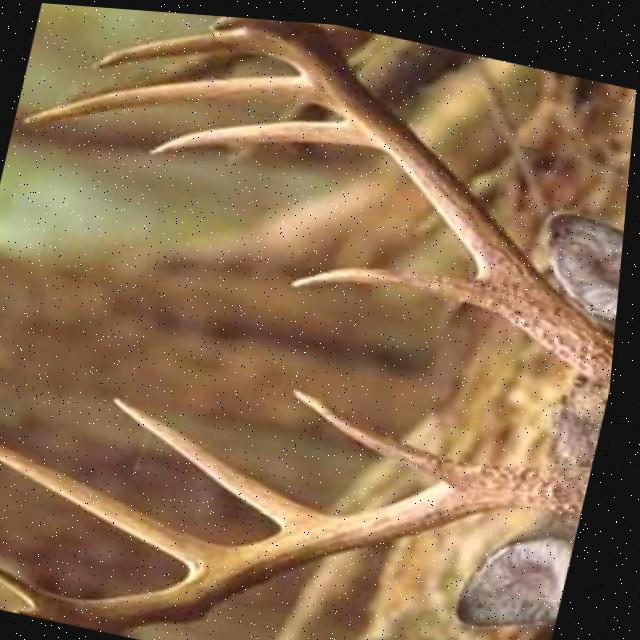L-F: (24, 455, 599, 631)
L-G1: (297, 383, 506, 481)
L-G2: (118, 392, 341, 529)
L-G3: (0, 437, 254, 571)
R-F: (203, 13, 620, 370)
R-G1: (294, 259, 523, 315)
R-G2: (150, 112, 398, 154)
R-G3: (24, 67, 338, 126)
R-G4: (91, 25, 281, 70)
